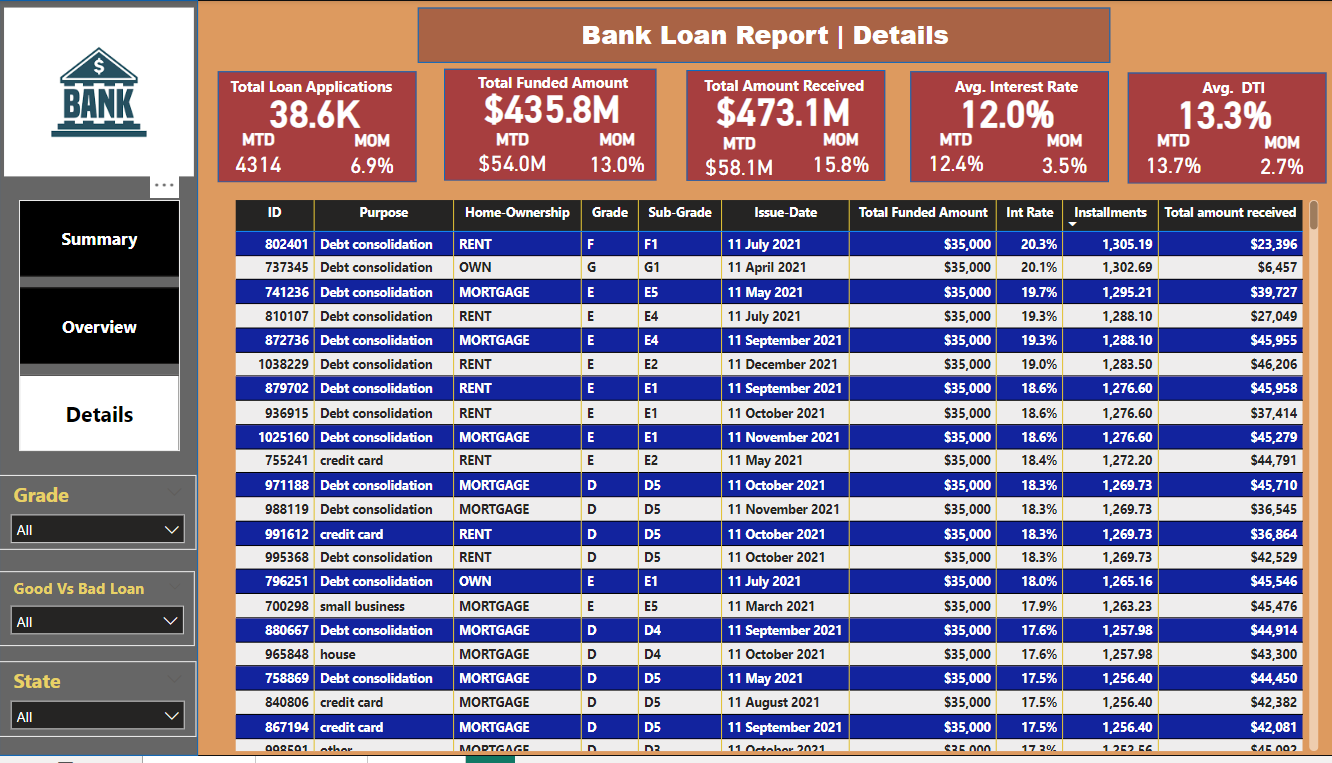

The page's visual inventory and layout, read from the dashboard file:
{"tool":"powerbi","page":{"name":"Details","canvas":[1280,720],"ordinal":2},"visuals":[{"type":"shape","box":[398.3,7.5,659.6,52.8],"z":0},{"type":"shape","box":[654.6,66.3,189.3,106],"z":0,"group":"g2"},{"type":"shape","box":[423.3,66.9,202.3,106.8],"z":0,"group":"g3"},{"type":"shape","box":[208.8,67.6,189.3,106],"z":0,"group":"g1"},{"type":"shape","box":[868.4,67.6,189.3,106],"z":0,"group":"g4"},{"type":"shape","box":[1075.5,68.8,189.3,106],"z":0,"group":"g5"},{"type":"shape","box":[0,0,189.7,719.9],"z":1000},{"type":"textbox","box":[450.6,65.1,178.4,37],"z":1000,"group":"g3"},{"type":"textbox","box":[479.9,11.3,500,49],"z":2000},{"type":"card","title":"MTD","fields":{"Values":["Measure_Table.MTD_funded_amount"]},"box":[446.9,124.7,82.9,46.5],"z":2000,"group":"g3"},{"type":"group","id":"g1","title":"Group 1","box":[206,59.1,192.2,114.4],"z":3000},{"type":"card","title":"MOM","fields":{"Values":["Measure_Table.MOM funded amount"]},"box":[553.7,124.7,67.8,42.7],"z":3000,"group":"g3"},{"type":"group","id":"g2","title":"Group 1","box":[651.8,57.8,192.2,115.6],"z":4000},{"type":"card","fields":{"Values":["Measure_Table.Total amount received"]},"box":[651.8,57.8,189.7,91.7],"z":4000,"group":"g2"},{"type":"card","fields":{"Values":["Measure_Table.Total Loan Applications"]},"box":[206,59.1,189.4,91.9],"z":4000,"group":"g1"},{"type":"card","fields":{"Values":["Measure_Table.Avg interest rate"]},"box":[865.6,59.1,189.4,91.9],"z":4000,"group":"g4"},{"type":"card","fields":{"Values":["Measure_Table.Avg. DTI"]},"box":[1072.7,60.3,189.4,91.9],"z":4000,"group":"g5"},{"type":"group","id":"g3","title":"Group 2","box":[423.3,65.1,206,108],"z":4500,"group":"g6"},{"type":"card","fields":{"Values":["Measure_Table.Total funded amount"]},"box":[432.1,55,189.7,93],"z":5000,"group":"g6"},{"type":"group","id":"g4","title":"Group 1","box":[865.6,59.1,192.2,114.3],"z":5000},{"type":"textbox","box":[665.5,66,178.4,37],"z":5000,"group":"g2"},{"type":"textbox","box":[879.3,67.3,178.4,37],"z":5000,"group":"g4"},{"type":"textbox","box":[216,67.8,182.2,36.4],"z":5000,"group":"g1"},{"type":"textbox","box":[1086.4,68.5,178.4,37],"z":5000,"group":"g5"},{"type":"group","id":"g5","title":"Group 1","box":[1072.7,60.3,192.2,114.3],"z":6000},{"type":"card","title":"MTD","fields":{"Values":["Measure_Table.MTD avg. interest rate"]},"box":[876.4,123.1,70.4,44],"z":6000,"group":"g4"},{"type":"card","title":"MTD","fields":{"Values":["Measure_Table.MTD_Loan_Applications"]},"box":[217.1,123.5,60.7,44],"z":6000,"group":"g1"},{"type":"card","title":"MTD","fields":{"Values":["Measure_Table.MTD avg. dti"]},"box":[1083.5,124.3,70.4,44],"z":6000,"group":"g5"},{"type":"card","title":"MTD","fields":{"Values":["Measure_Table.MTD total amount received"]},"box":[663.3,126.5,81.7,46.5],"z":6000,"group":"g2"},{"type":"group","id":"g6","title":"Group 3","box":[423.3,55,206,118.1],"z":7000},{"type":"card","title":"MOM","fields":{"Values":["Measure_Table.MOM total amount received"]},"box":[766.5,123.4,70.2,47.6],"z":7000,"group":"g2"},{"type":"card","title":"MOM","fields":{"Values":["Measure_Table.MOM Loan Application"]},"box":[320.7,124.7,70.2,47.6],"z":7000,"group":"g1"},{"type":"card","title":"MOM","fields":{"Values":["Measure_Table.MOM Avg. interest rate"]},"box":[980.3,124.7,70.2,47.6],"z":7000,"group":"g4"},{"type":"card","title":"MOM","fields":{"Values":["Measure_Table.MOM Avg. dti"]},"box":[1187.4,125.9,70.2,47.6],"z":7000,"group":"g5"},{"type":"slicer","fields":{"Values":["fin_loan_table.address_state"]},"box":[0,629.9,187.9,72.3],"z":8000},{"type":"slicer","fields":{"Values":["fin_loan_table.Good vs Bad Loan"]},"box":[0,544.4,186.7,71.1],"z":9000},{"type":"slicer","fields":{"Values":["fin_loan_table.grade"]},"box":[0,452.8,187.9,71.1],"z":10000},{"type":"tableEx","fields":{"Values":["fin_loan_table.id","fin_loan_table.purpose","fin_loan_table.home_ownership","fin_loan_table.grade","fin_loan_table.sub_grade","fin_loan_table.issue_date","Measure_Table.Total funded amount","fin_loan_table.int_rate","Sum(fin_loan_table.installment)","Measure_Table.Total amount received"]},"box":[219.2,185.5,1043,534.7],"z":11000},{"type":"image","box":[0,0,190.3,175.8],"z":12000},{"type":"pageNavigator","box":[19,190.5,153.6,239.3],"z":12001}]}

Visuals, with their boxes on the page's 1280x720 design canvas (x1, y1, x2, y2). These are canvas units, not pixel positions in the 1332x763 screenshot, which may show the page scaled, cropped or inside an application window:
shape: [x1=398, y1=8, x2=1058, y2=60]
shape: [x1=655, y1=66, x2=844, y2=172]
shape: [x1=423, y1=67, x2=626, y2=174]
shape: [x1=209, y1=68, x2=398, y2=174]
shape: [x1=868, y1=68, x2=1058, y2=174]
shape: [x1=1076, y1=69, x2=1265, y2=175]
shape: [x1=0, y1=0, x2=190, y2=720]
textbox: [x1=451, y1=65, x2=629, y2=102]
textbox: [x1=480, y1=11, x2=980, y2=60]
"MTD" card: [x1=447, y1=125, x2=530, y2=171]
"Group 1" group: [x1=206, y1=59, x2=398, y2=174]
"MOM" card: [x1=554, y1=125, x2=622, y2=167]
"Group 1" group: [x1=652, y1=58, x2=844, y2=173]
card - Measure_Table.Total amount received: [x1=652, y1=58, x2=842, y2=150]
card - Measure_Table.Total Loan Applications: [x1=206, y1=59, x2=395, y2=151]
card - Measure_Table.Avg interest rate: [x1=866, y1=59, x2=1055, y2=151]
card - Measure_Table.Avg. DTI: [x1=1073, y1=60, x2=1262, y2=152]
"Group 2" group: [x1=423, y1=65, x2=629, y2=173]
card - Measure_Table.Total funded amount: [x1=432, y1=55, x2=622, y2=148]
"Group 1" group: [x1=866, y1=59, x2=1058, y2=173]
textbox: [x1=666, y1=66, x2=844, y2=103]
textbox: [x1=879, y1=67, x2=1058, y2=104]
textbox: [x1=216, y1=68, x2=398, y2=104]
textbox: [x1=1086, y1=68, x2=1265, y2=106]
"Group 1" group: [x1=1073, y1=60, x2=1265, y2=175]
"MTD" card: [x1=876, y1=123, x2=947, y2=167]
"MTD" card: [x1=217, y1=124, x2=278, y2=168]
"MTD" card: [x1=1084, y1=124, x2=1154, y2=168]
"MTD" card: [x1=663, y1=126, x2=745, y2=173]
"Group 3" group: [x1=423, y1=55, x2=629, y2=173]
"MOM" card: [x1=766, y1=123, x2=837, y2=171]
"MOM" card: [x1=321, y1=125, x2=391, y2=172]
"MOM" card: [x1=980, y1=125, x2=1050, y2=172]
"MOM" card: [x1=1187, y1=126, x2=1258, y2=174]
slicer - fin_loan_table.address_state: [x1=0, y1=630, x2=188, y2=702]
slicer - fin_loan_table.Good vs Bad Loan: [x1=0, y1=544, x2=187, y2=616]
slicer - fin_loan_table.grade: [x1=0, y1=453, x2=188, y2=524]
tableEx - fin_loan_table.id x fin_loan_table.purpose: [x1=219, y1=186, x2=1262, y2=720]
image: [x1=0, y1=0, x2=190, y2=176]
pageNavigator: [x1=19, y1=190, x2=173, y2=430]
